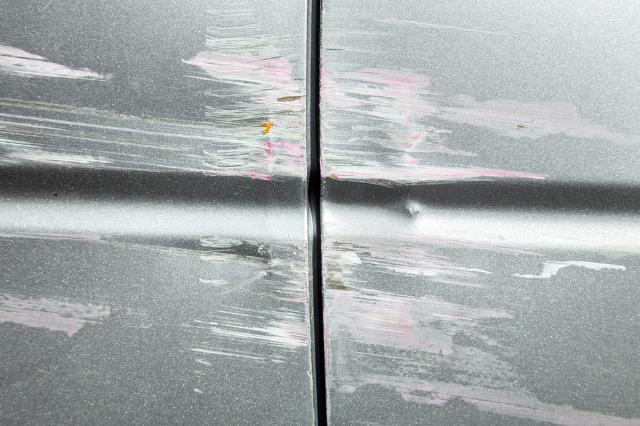Door: (0, 1, 312, 403), (324, 36, 640, 426)
